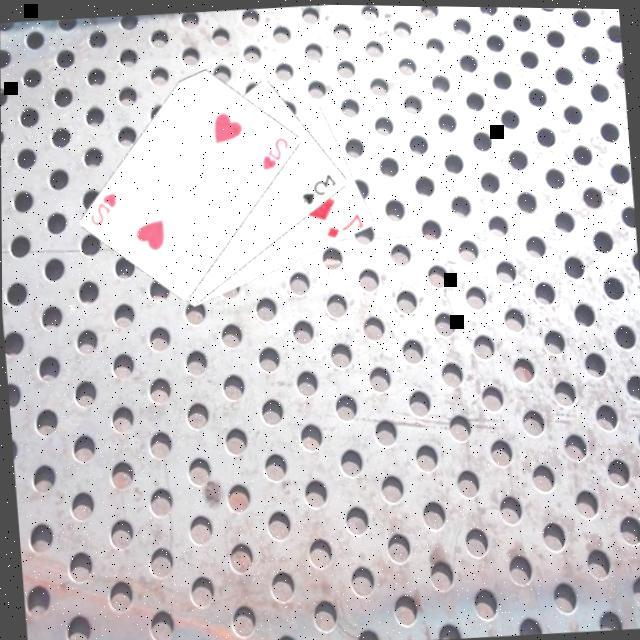2H: (85, 186, 122, 226), (258, 130, 294, 170)
3S: (298, 167, 340, 206)
7D: (322, 206, 368, 238)
